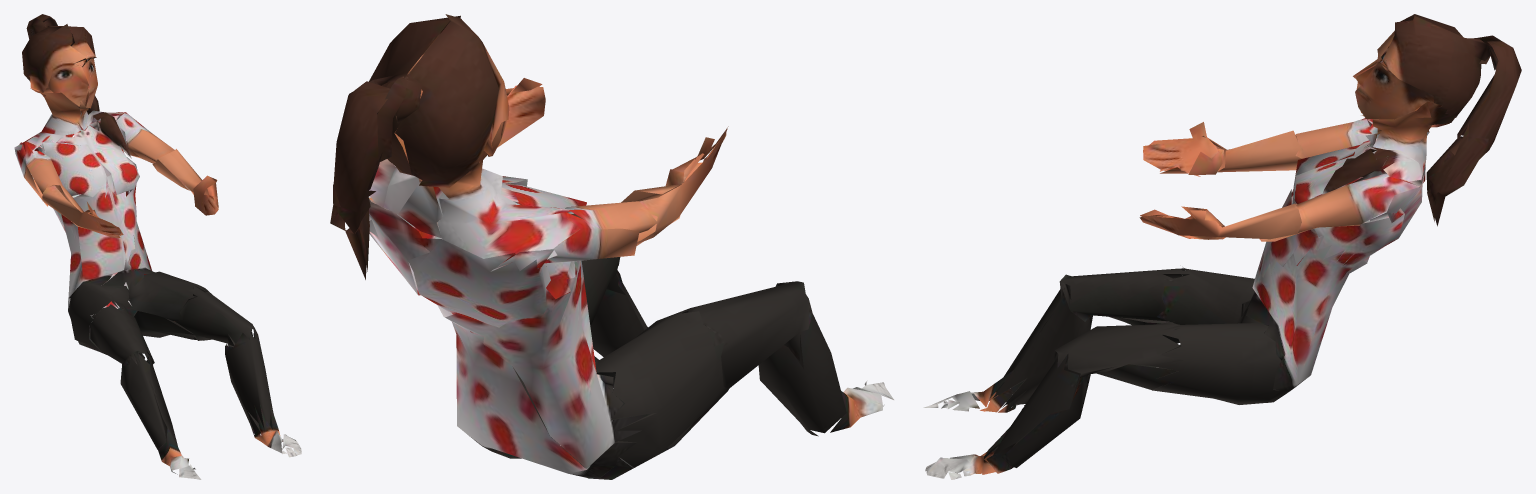
The model's file is fan_pois_femme.glb.
The picture shows the model from 3 angles, left to right: view 1: azimuth 30°, elevation 25°; view 2: azimuth 150°, elevation 25°; view 3: azimuth 270°, elevation 25°; orthographic projection. The views are drawn at different scales.
Visible parts, largest first — view 1: driver; view 2: driver; view 3: driver.
Part boxes in pixels (x1,y1,x2,y2): driver: [14, 14, 301, 479]; driver: [330, 14, 893, 479]; driver: [923, 14, 1521, 479].
Bounding box in the file's own units: 0.4335 × 0.9216 × 1.18.
Materials: 1 (1 with a texture image).
